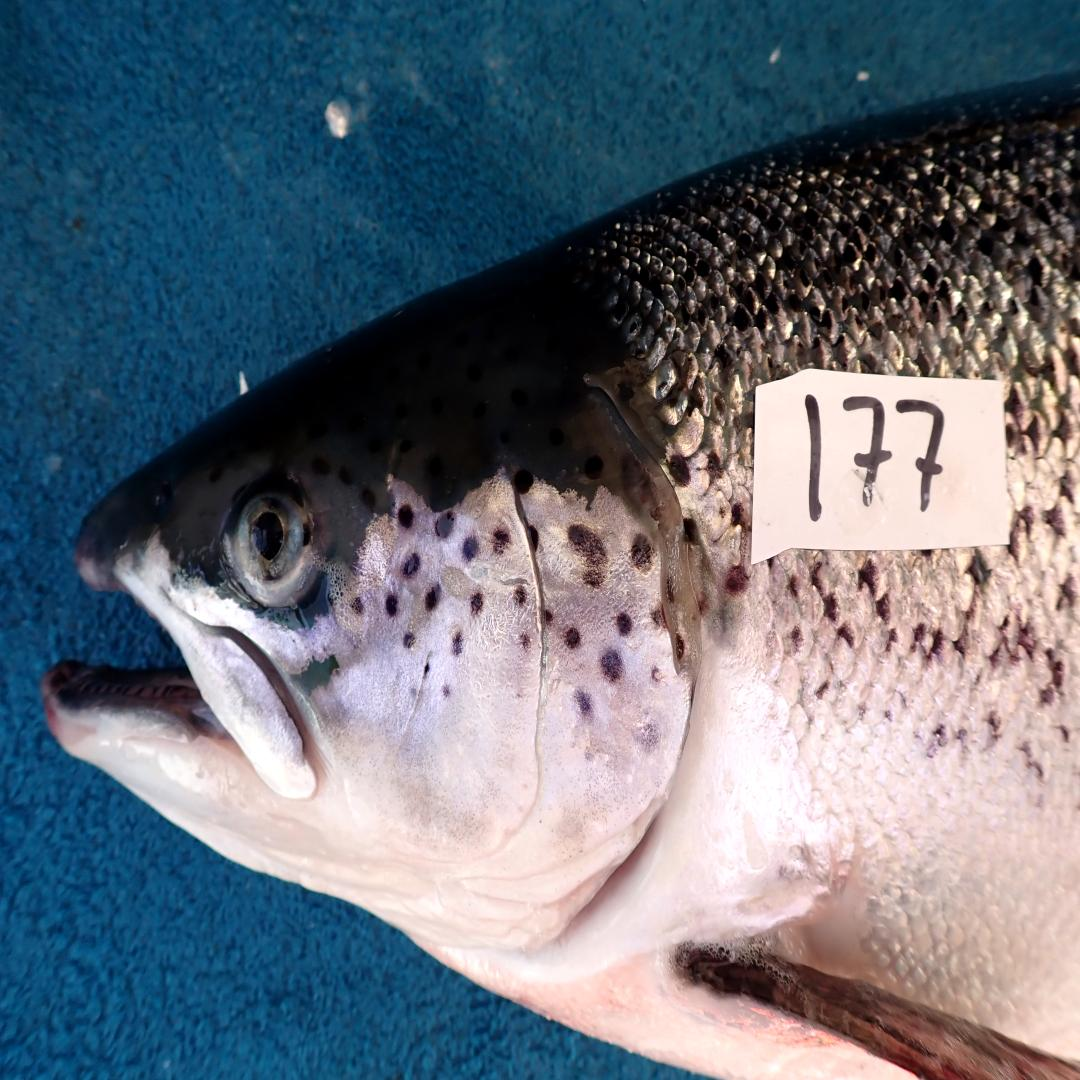roi: (316, 469, 700, 970)
